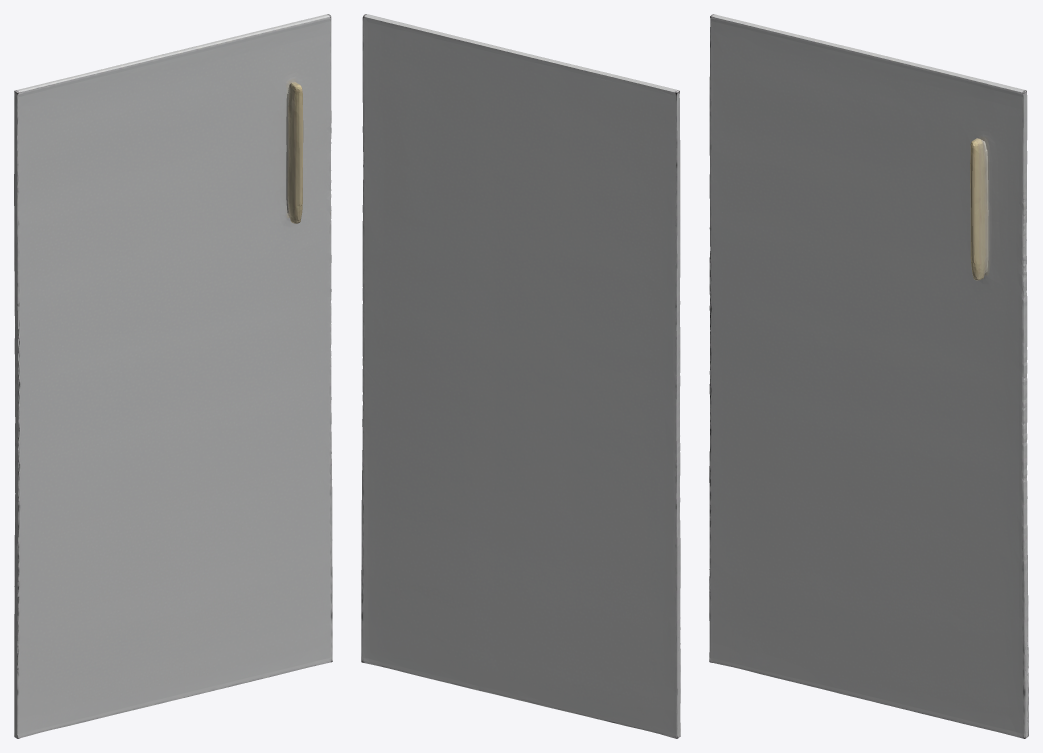
The picture shows the model from 3 angles, left to right: view 1: azimuth 30°, elevation 25°; view 2: azimuth 150°, elevation 25°; view 3: azimuth 330°, elevation 25°; orthographic projection.
Visible parts, largest first — view 1: world; view 2: world; view 3: world.
Part boxes in pixels (left/top/right/bottom): world: left=14, top=14, right=332, bottom=738; world: left=361, top=14, right=680, bottom=738; world: left=709, top=14, right=1028, bottom=738.
Size of the model in its own units: 0.5109 by 1 by 0.041.
Materials: 1 (1 with a texture image).
